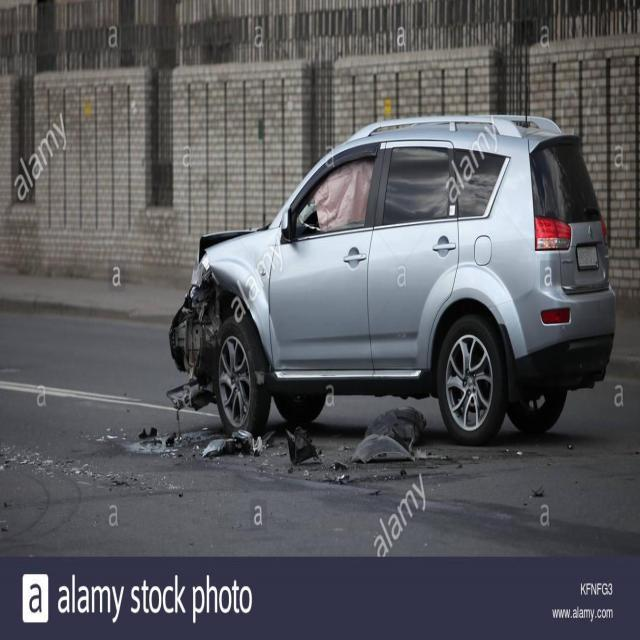damaged: (168, 230, 238, 420)
